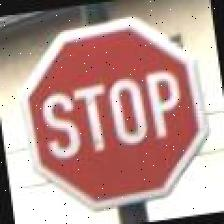Stop: (7, 7, 218, 218)
